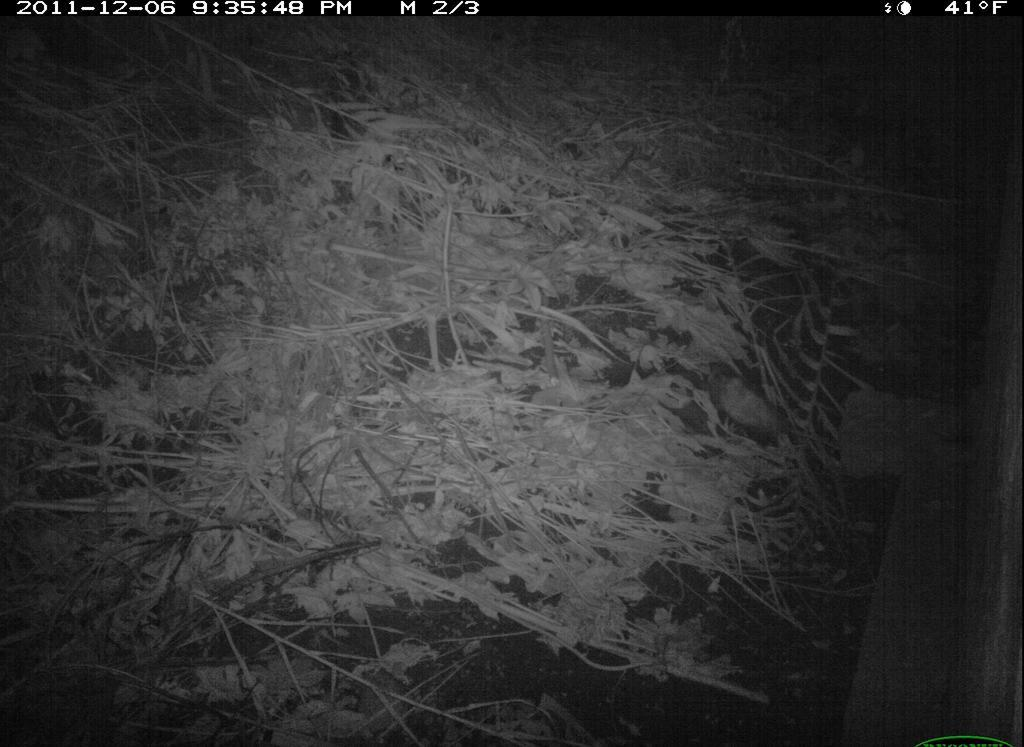opossum: (698, 350, 866, 470)
